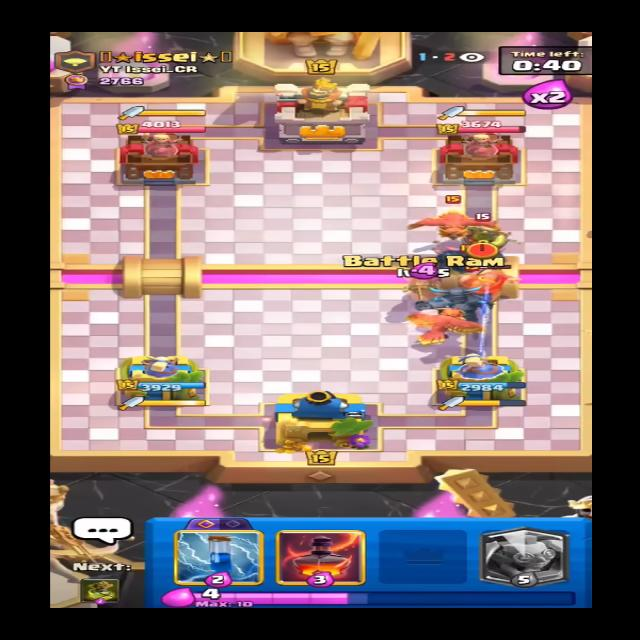Goblindemolisher: (457, 209, 513, 256)
Knight: (459, 259, 523, 295)
Pekka: (428, 232, 516, 273)
Pheonix: (408, 195, 495, 238)
